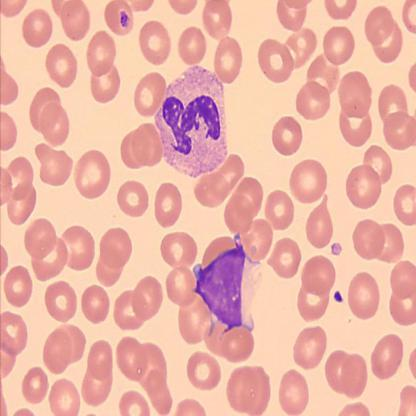Atypical lymphocyte: (154, 66, 231, 178), (190, 235, 262, 330)
